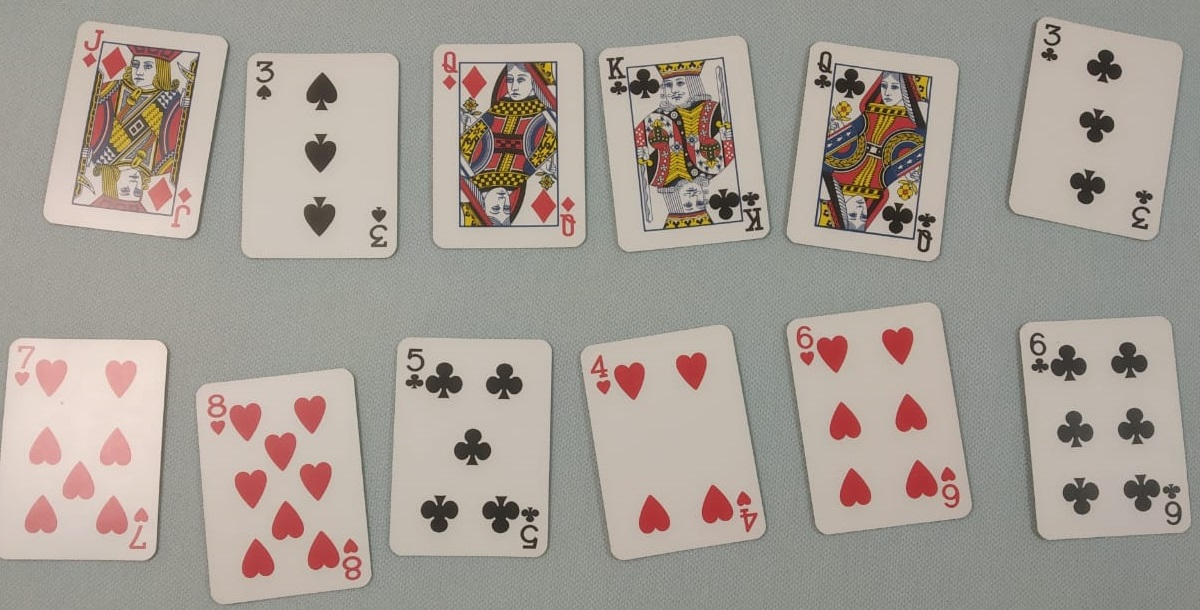eight: (183, 358, 378, 605)
five: (385, 329, 572, 590)
four: (565, 317, 796, 578)
jack: (54, 8, 227, 260)
king: (591, 29, 782, 260)
queen: (773, 24, 966, 279), (418, 29, 593, 273)
seven: (1, 333, 171, 574)
six: (771, 299, 1009, 565), (1023, 288, 1200, 591)
three: (991, 1, 1186, 280), (235, 35, 418, 283)
